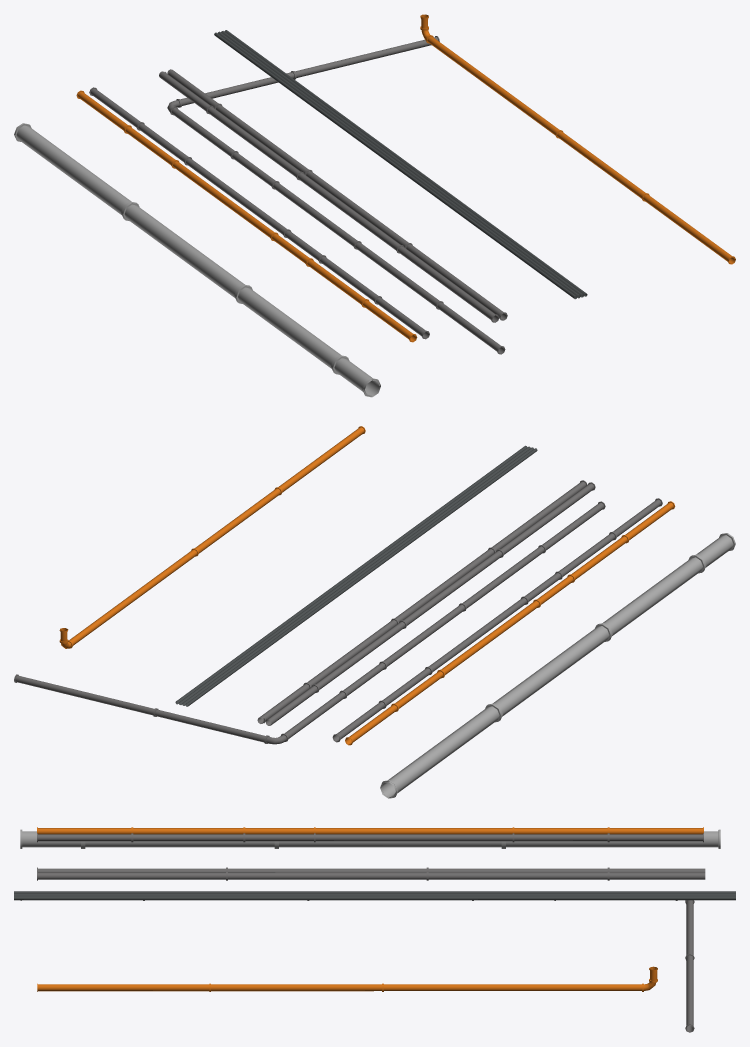
File: SM_H_Building_Tide_Bathhouse_05B_ATLAS.fbx
3 renders of one model, top to bottom at view 1: azimuth 30°, elevation 25°; view 2: azimuth 150°, elevation 25°; view 3: azimuth 270°, elevation 25°, orthographic. The views are drawn at different scales.
Parts seen in each view (by area): view 1: SM_H_Building_Tide_Bathhouse_05B_ATLAS; view 2: SM_H_Building_Tide_Bathhouse_05B_ATLAS; view 3: SM_H_Building_Tide_Bathhouse_05B_ATLAS.
Boxes of the visible parts, bbox=[...] form: SM_H_Building_Tide_Bathhouse_05B_ATLAS: bbox=[14, 14, 735, 397]; SM_H_Building_Tide_Bathhouse_05B_ATLAS: bbox=[14, 426, 735, 798]; SM_H_Building_Tide_Bathhouse_05B_ATLAS: bbox=[14, 827, 735, 1032].
Bounding box in the file's own units: 1918 × 2927 × 269.
